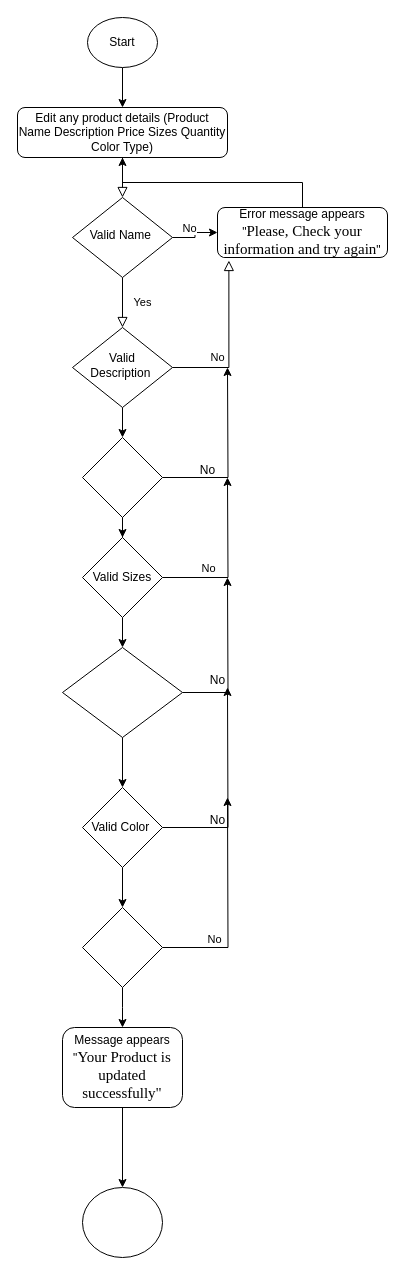
Image size: 405x1275. Some labels were removed from this diagram. The centre of each missing label's shape, as x and y in pixels:
"End" goes at pixel 122 1222.
"Valid Price" goes at pixel 122 477.
"Valid Quantity Number" goes at pixel 122 692.
"Valid Type" goes at pixel 122 947.
